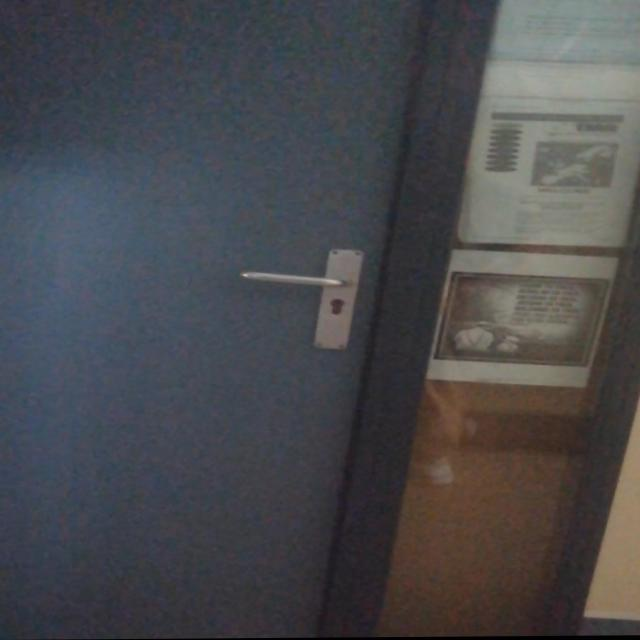door_handle: (234, 268, 353, 294)
